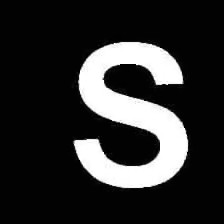LTR_S: (64, 33, 196, 195)
